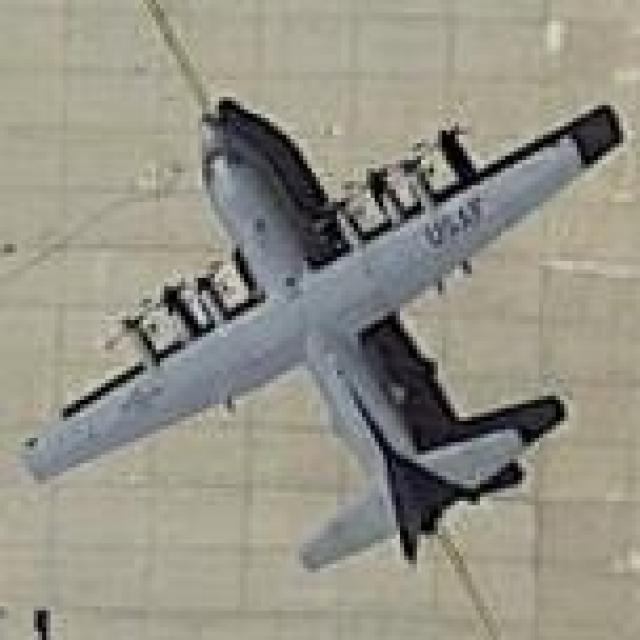C-130_TopDown: (19, 87, 623, 575)
